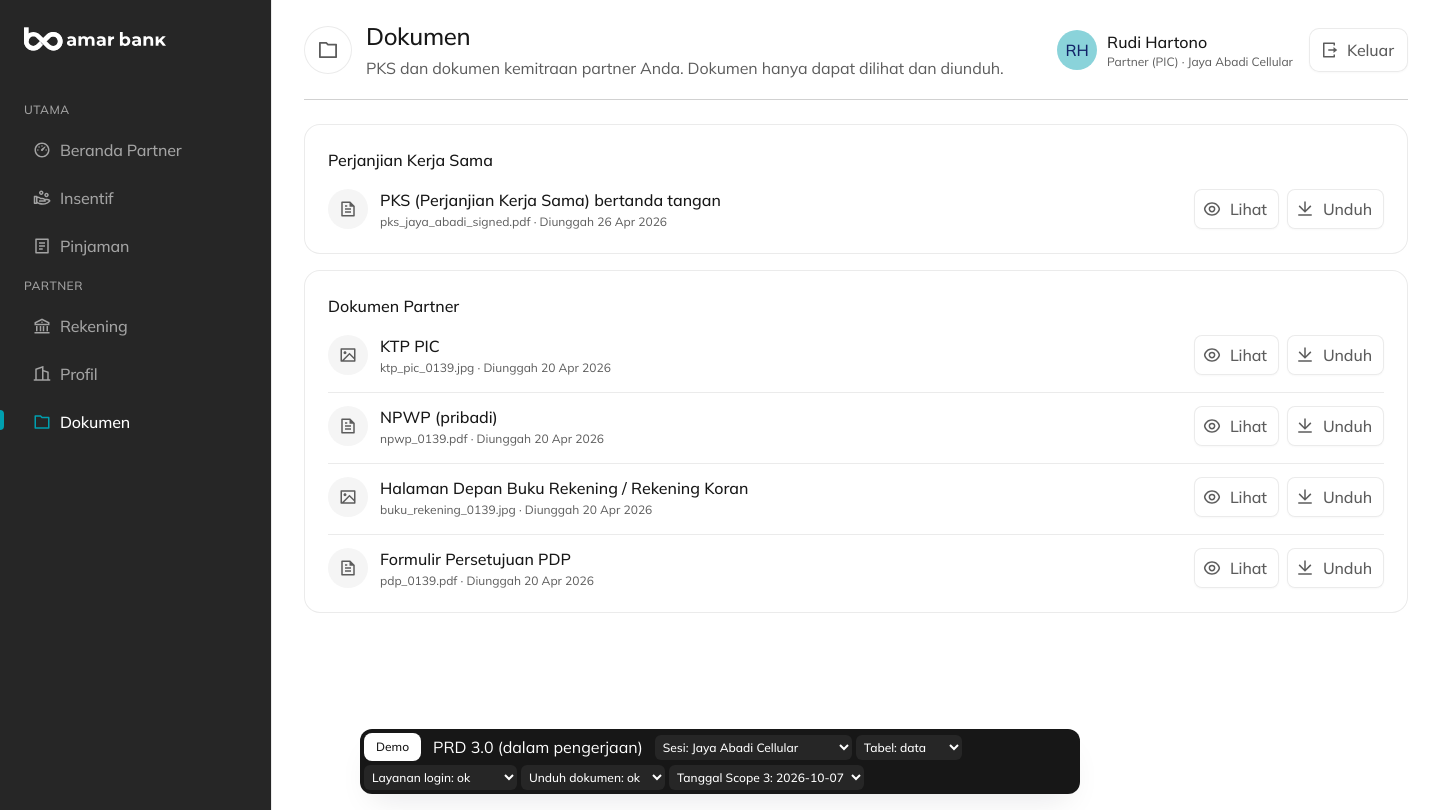
Test: PDB-09 Dokumen › PKS + dokumen partner; Unduh menyimpan file bernama sama, Lihat membuka pratinjau
The image size is (1440, 810).
Expected: the text "PKS (Perjanjian Kerja Sama) bertanda tangan" is shown, top-left (380, 190), bottom-right (721, 210)
Click the button "Unduh" in the row of "26 Apr 2026" at [1335, 209], box top-left (1287, 189), bottom-right (1384, 229)
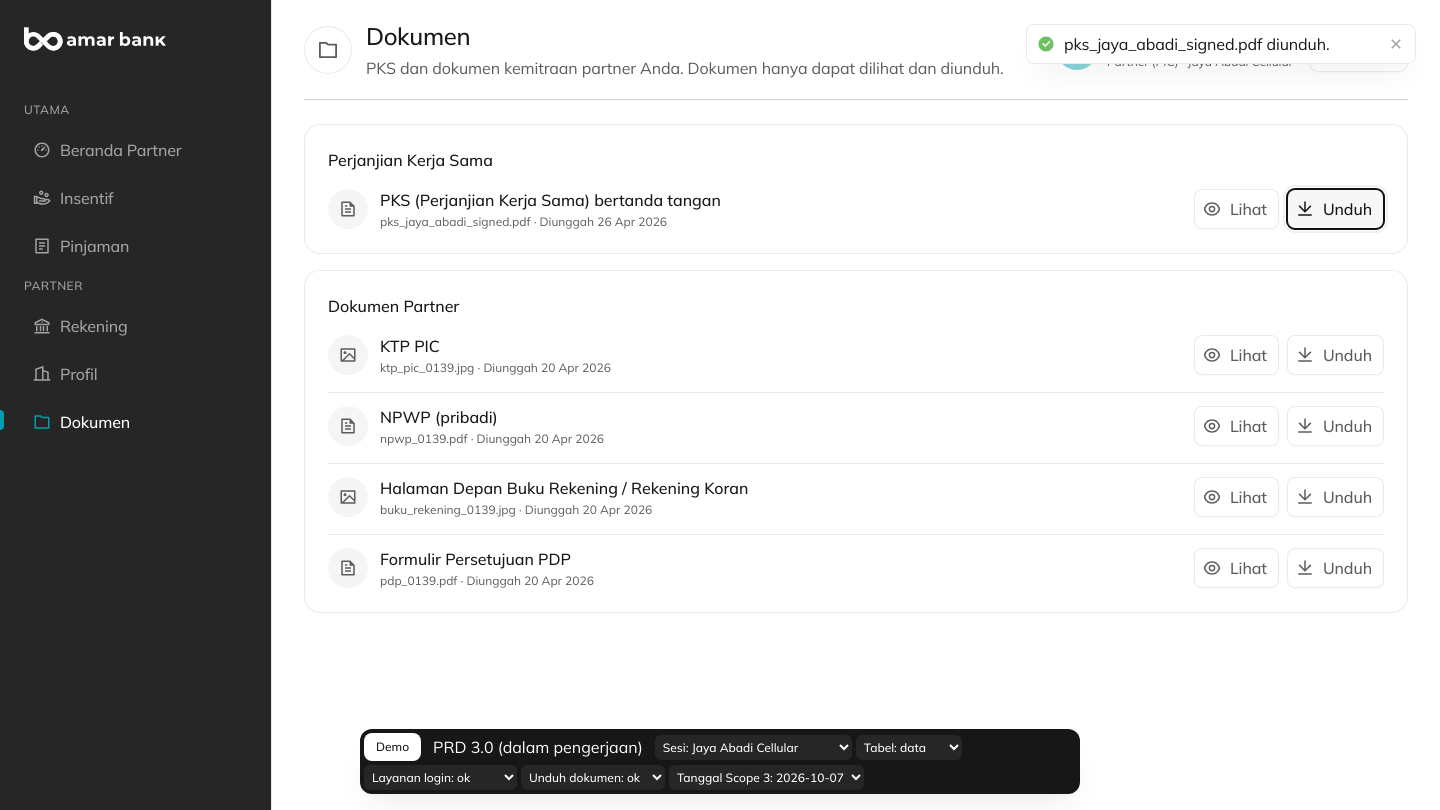
Expected: the text "pks_jaya_abadi_signed.pdf diunduh." is shown, top-left (1064, 34), bottom-right (1330, 54)
Click the button "Lihat" in the row of "26 Apr 2026" at [1236, 209], box top-left (1194, 189), bottom-right (1279, 229)
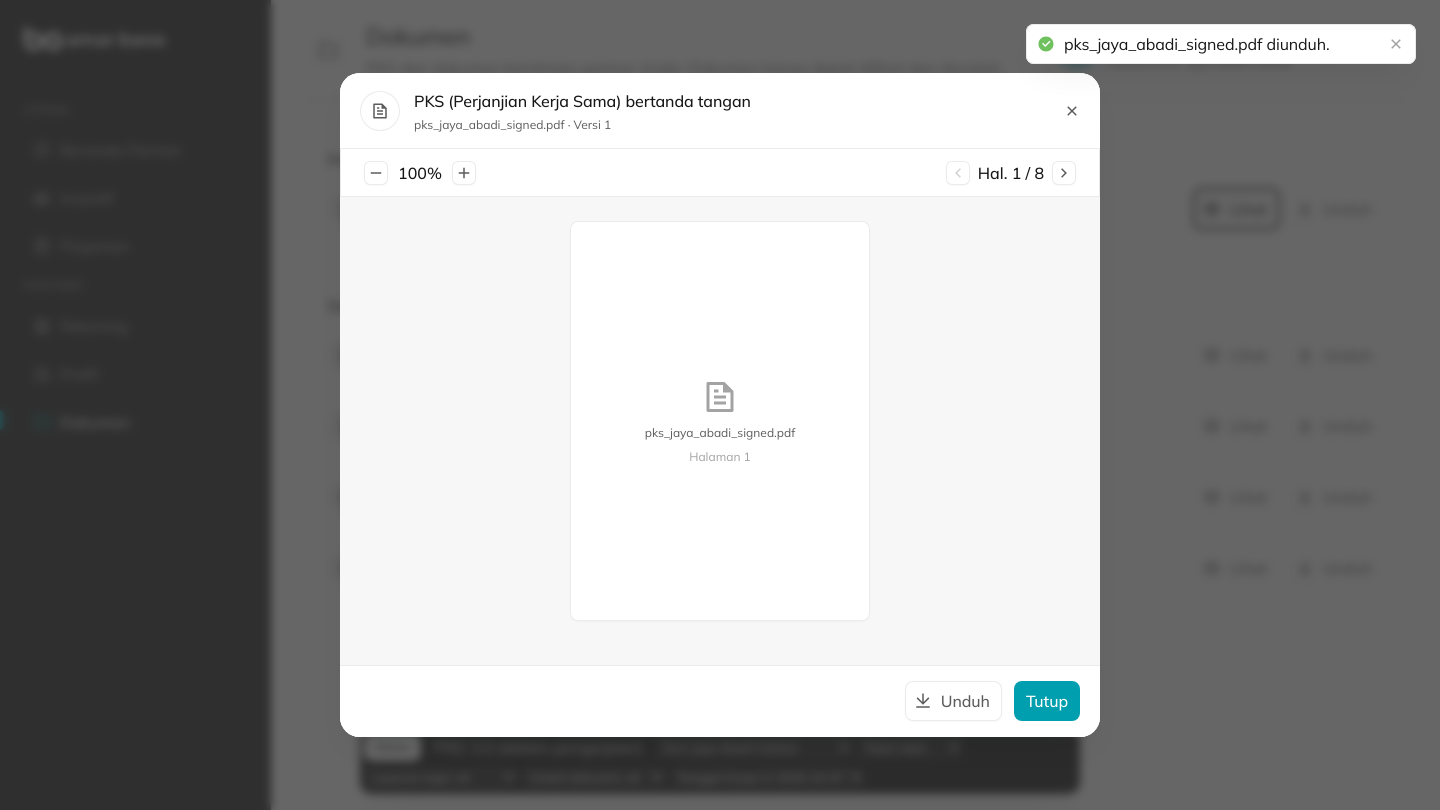
Expected: the text "Hal. 1 / 8" is shown, top-left (978, 161), bottom-right (1044, 185)
